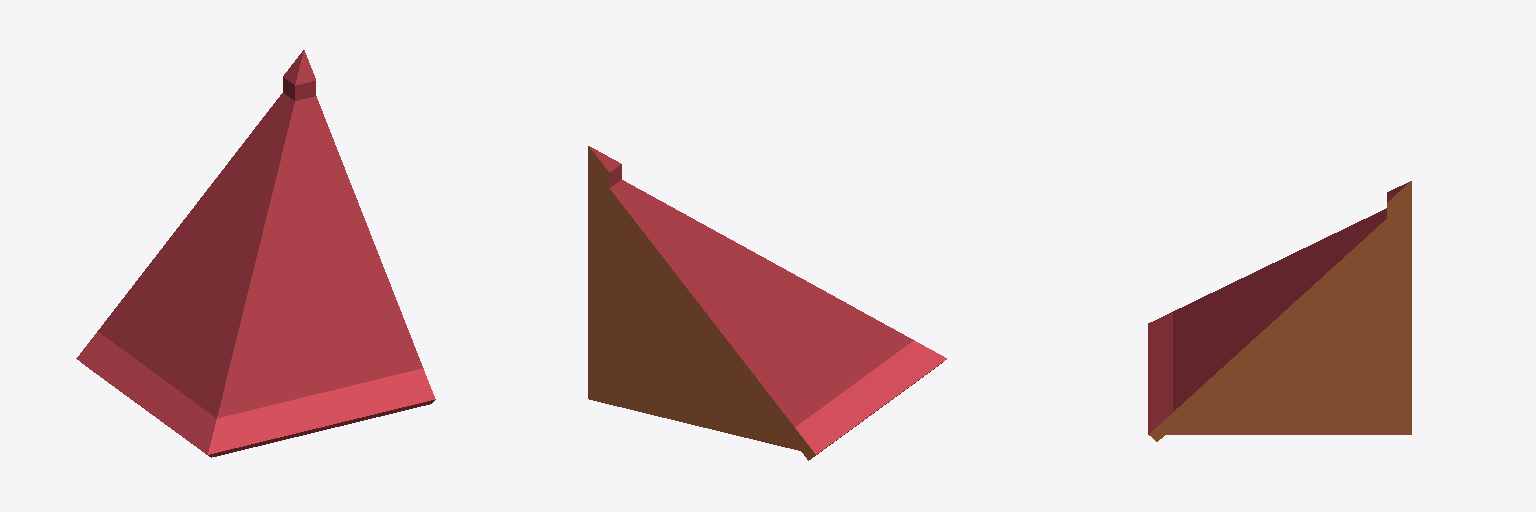
The picture shows the model from 3 angles: view 1: azimuth 30°, elevation 25°; view 2: azimuth 150°, elevation 25°; view 3: azimuth 270°, elevation 25°; orthographic projection.
Parts seen in each view (by area): view 1: roofHighCorner; view 2: roofHighCorner; view 3: roofHighCorner.
Boxes of the visible parts, <box> form: roofHighCorner: <box>76,50,435,457</box>; roofHighCorner: <box>588,146,946,460</box>; roofHighCorner: <box>1148,181,1411,441</box>.
Bounding box in the file's own units: 0.9104 × 1 × 0.9104.